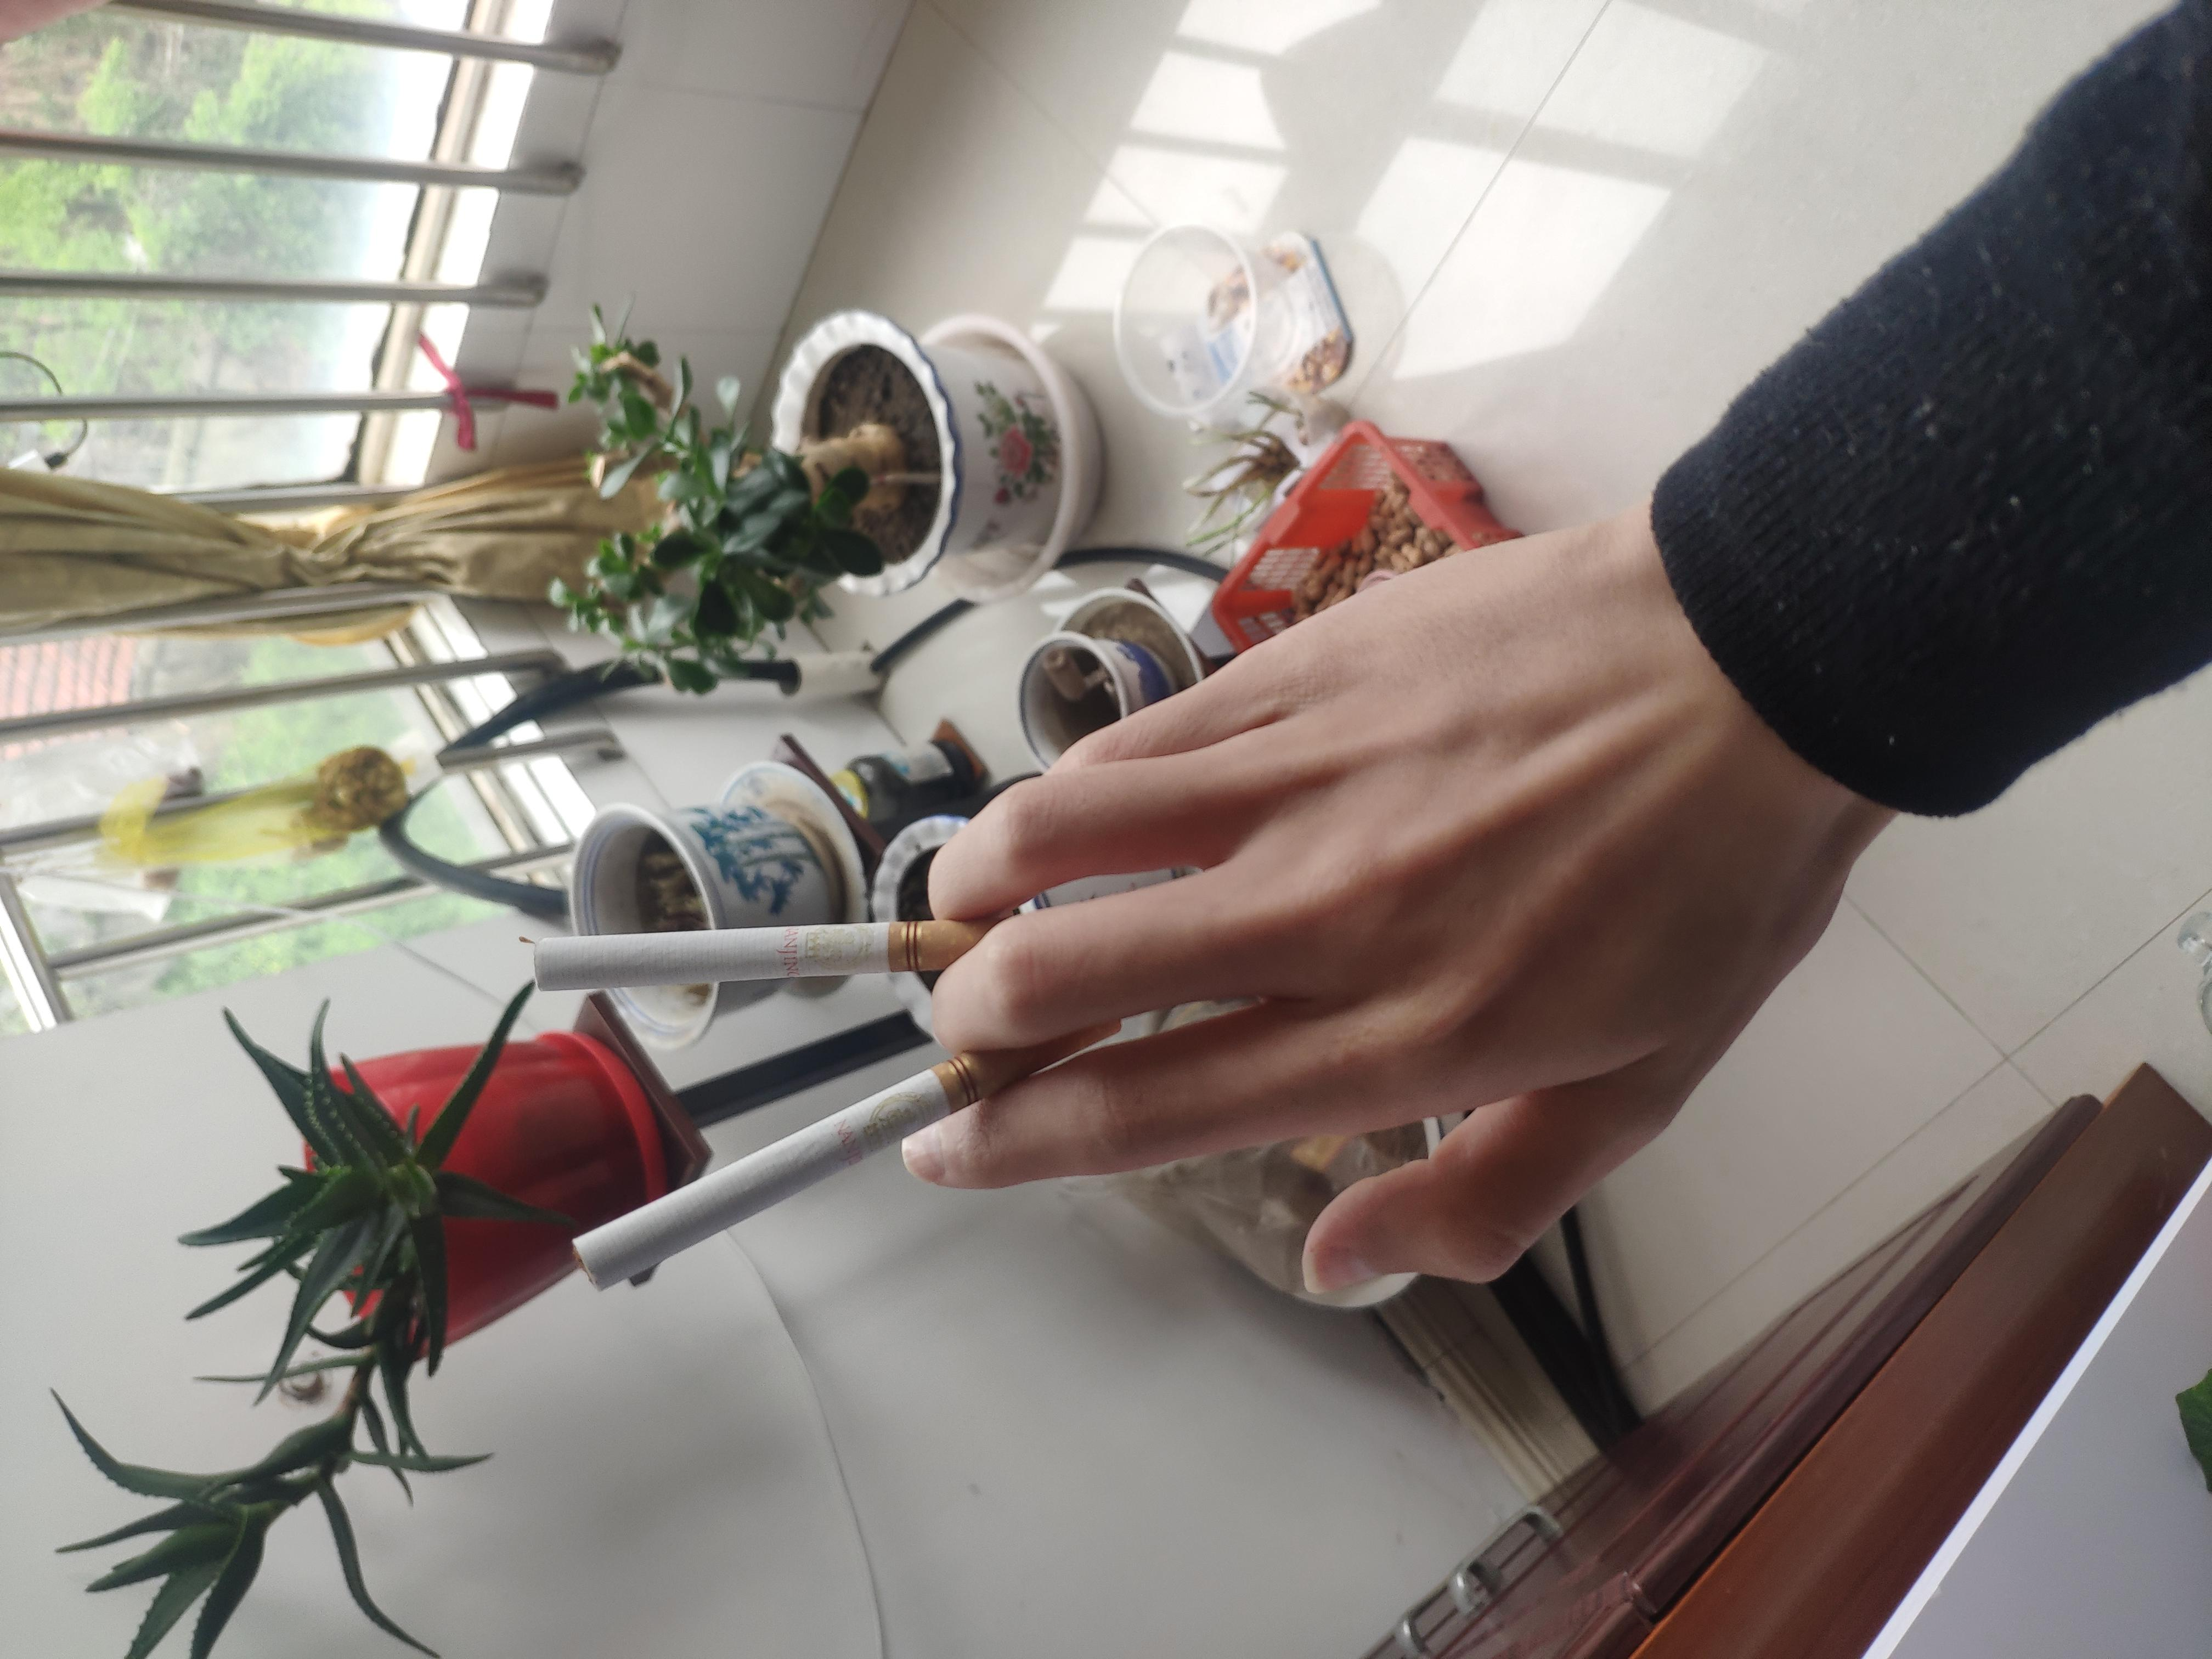smoke: (491, 429, 878, 842), (887, 401, 996, 788)
